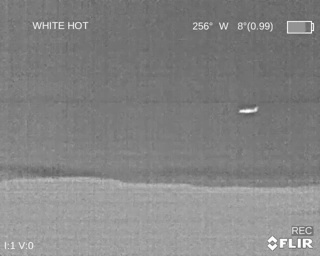AIRPLANE: (238, 105, 258, 115)
